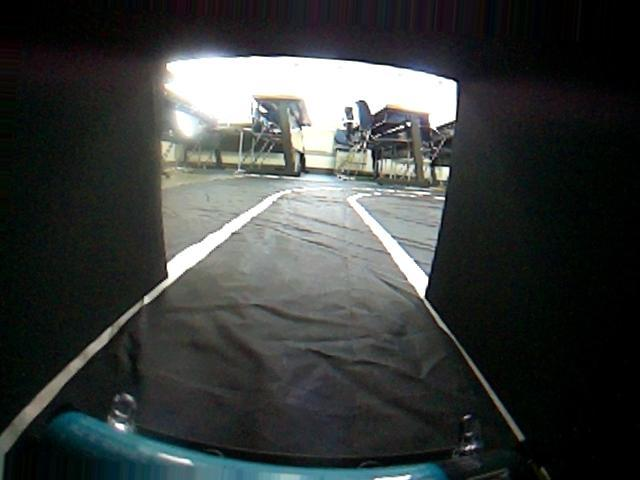straight: (3, 198, 623, 476)
